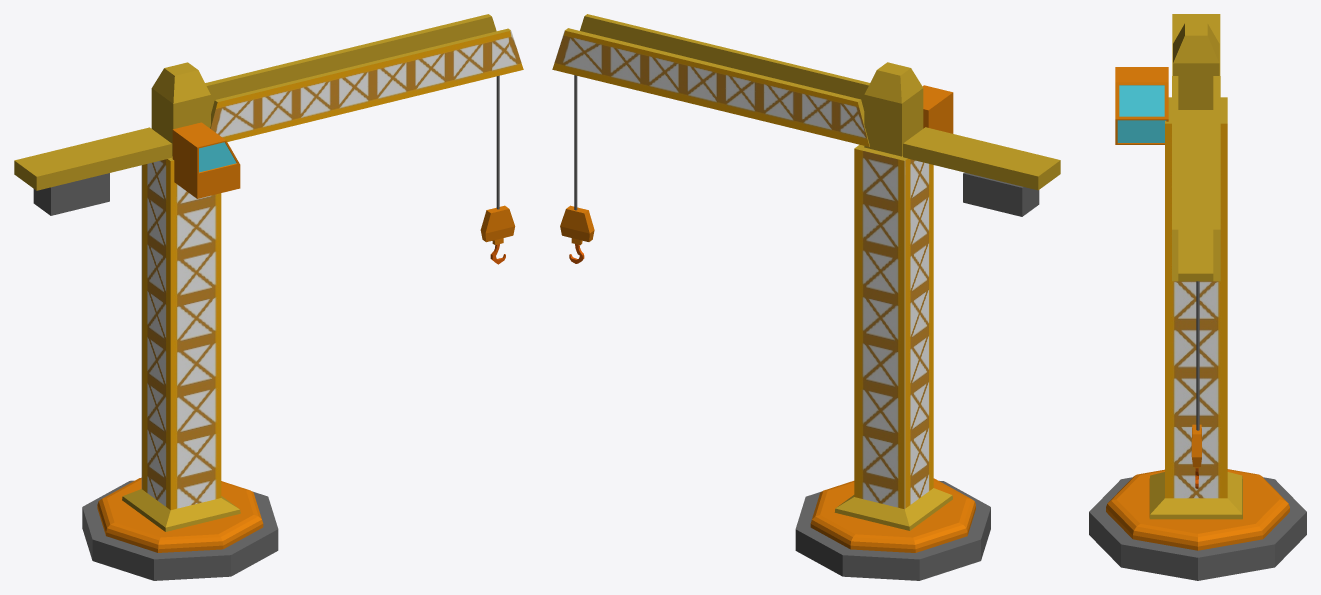
The model's file is Crane.fbx.
The picture shows the model from 3 angles, left to right: view 1: azimuth 30°, elevation 25°; view 2: azimuth 150°, elevation 25°; view 3: azimuth 270°, elevation 25°; orthographic projection. The views are drawn at different scales.
Parts seen in each view (by area): view 1: Cube, Cube.001, Cylinder, Cylinder.001, Cube.003, Crane.003, Cube.002, Crane.002, Crane.001; view 2: Cube, Cube.001, Cylinder, Cylinder.001, Cube.003, Cube.002, Crane.002, Crane.003, Crane.001; view 3: Cube, Cube.001, Cylinder, Cylinder.001, Crane.003, Cube.002, Cube.003, Crane Cable, Crane.001.
Part boxes in pixels (<box>): Cube: <box>122,156,240,531</box>; Cube.001: <box>205,14,523,141</box>; Cylinder: <box>82,480,278,580</box>; Cylinder.001: <box>97,477,263,552</box>; Cube.003: <box>14,127,172,190</box>; Crane.003: <box>172,122,240,198</box>; Cube.002: <box>151,62,210,155</box>; Crane.002: <box>33,173,109,215</box>; Crane.001: <box>480,205,515,264</box>; Cube: <box>834,144,952,530</box>; Cube.001: <box>552,14,869,146</box>; Cylinder: <box>795,480,990,580</box>; Cylinder.001: <box>810,478,975,552</box>; Cube.003: <box>903,127,1060,190</box>; Cube.002: <box>864,62,923,156</box>; Crane.002: <box>963,172,1039,216</box>; Crane.003: <box>922,85,953,133</box>; Crane.001: <box>560,205,594,263</box>; Cube: <box>1149,97,1242,519</box>; Cube.001: <box>1172,76,1220,281</box>; Cylinder: <box>1089,477,1306,580</box>; Cylinder.001: <box>1106,469,1289,550</box>; Crane.003: <box>1115,67,1168,144</box>; Cube.002: <box>1173,23,1219,109</box>; Cube.003: <box>1172,14,1220,75</box>; Crane Cable: <box>1196,281,1199,430</box>; Crane.001: <box>1191,424,1201,488</box>.
Bounding box in the file's own units: 1038 × 958 × 374.
Materials: 7 (2 with a texture image).
